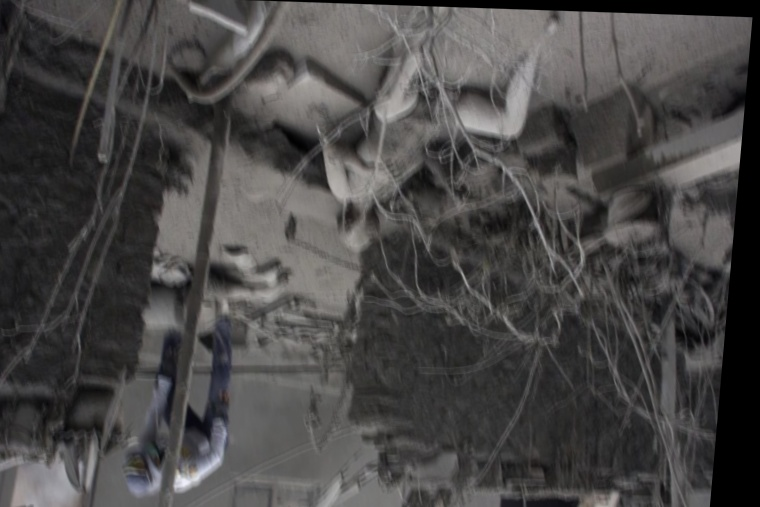BukanKorban: (119, 300, 239, 500), (562, 489, 621, 507)
Korban: (313, 3, 558, 258), (139, 256, 293, 340)
